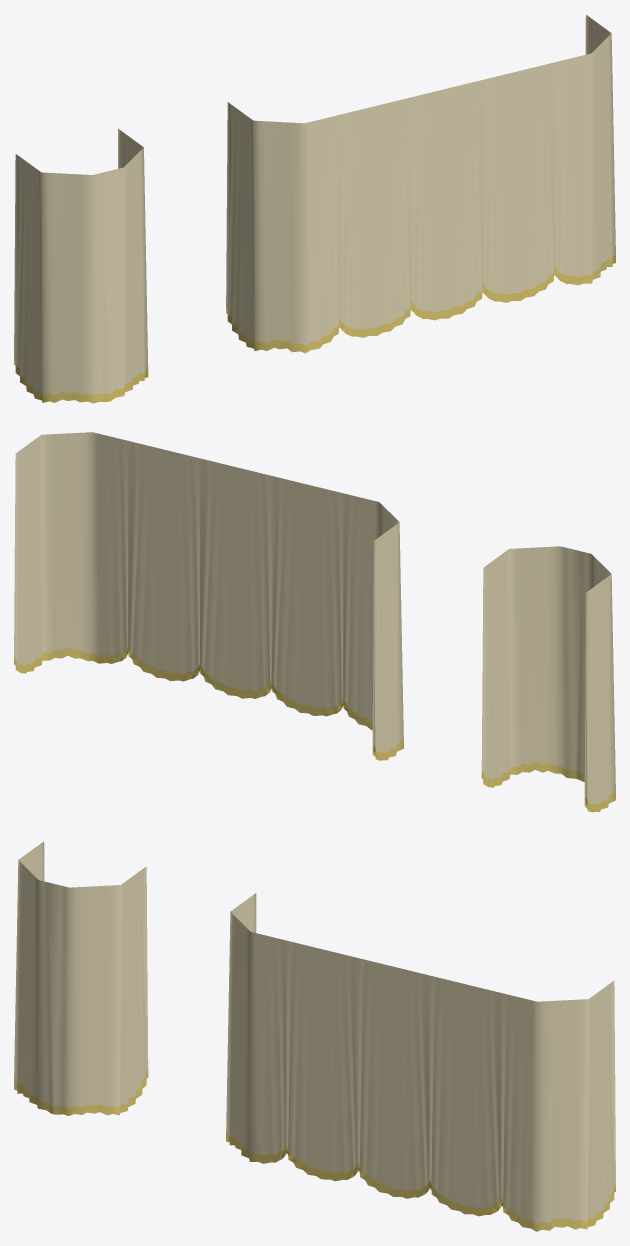
Rendered from 2StageCurtains.glb.
The picture shows the model from 3 angles, top to bottom: view 1: azimuth 30°, elevation 25°; view 2: azimuth 150°, elevation 25°; view 3: azimuth 330°, elevation 25°; orthographic projection.
Parts seen in each view (by area): view 1: Main Curtain, CEC Curtain; view 2: Main Curtain, CEC Curtain; view 3: Main Curtain, CEC Curtain.
Part boxes in pixels (x1,y1,x2,y2): Main Curtain: (226, 15, 615, 353); CEC Curtain: (14, 128, 148, 403); Main Curtain: (14, 432, 403, 760); CEC Curtain: (481, 546, 615, 812); Main Curtain: (226, 893, 615, 1231); CEC Curtain: (14, 841, 148, 1115).
Size of the model in its own units: 7.4 by 2.83 by 0.9442.
